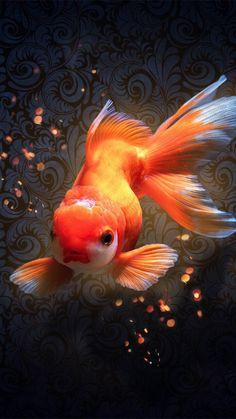goldfish: (31, 96, 236, 293)
